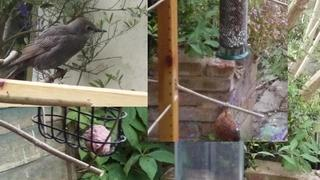starling: (6, 17, 108, 83)
